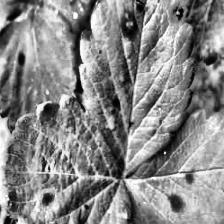Leaf Spot: (77, 0, 196, 177), (0, 92, 131, 224), (124, 108, 224, 224), (0, 5, 76, 133)
